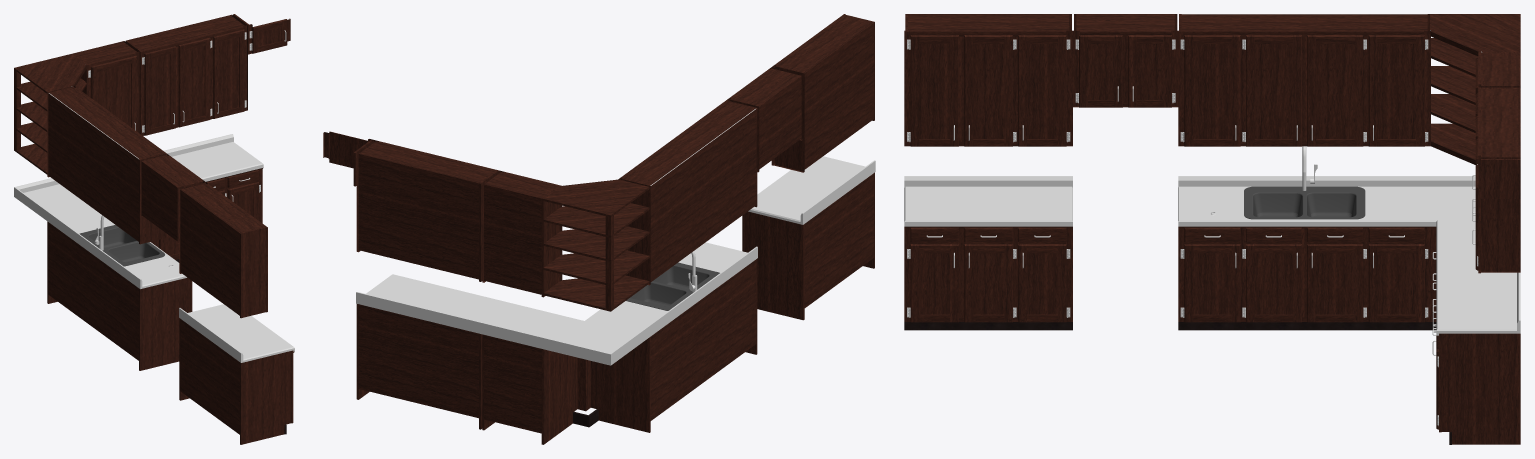
Rendered from Kitchen.fbx.
3 renders of one model, left to right at view 1: azimuth 30°, elevation 25°; view 2: azimuth 150°, elevation 25°; view 3: azimuth 270°, elevation 25°, orthographic. The views are drawn at different scales.
Parts seen in each view (by area): view 1: instance_63.001, instance_80, instance_10, instance_39, instance_43, group_17, instance_82, group_16, group_13, instance_138, instance_132, instance_128 (+26 smaller); view 2: instance_133, instance_63.001, instance_148, instance_80, group_16, instance_10, instance_39, instance_101, group_17, instance_34, instance_110, group_13 (+21 smaller); view 3: group_17, instance_144, group_13, group_16, instance_56, instance_58, instance_52, instance_67, instance_15, instance_9, instance_5, instance_91 (+41 smaller).
Boxes of the visible parts, x1=… form: instance_63.001: x1=48, y1=93, x2=138, y2=241; instance_80: x1=48, y1=222, x2=138, y2=360; instance_10: x1=180, y1=189, x2=239, y2=315; instance_39: x1=180, y1=319, x2=239, y2=434; instance_43: x1=240, y1=351, x2=291, y2=444; group_17: x1=14, y1=187, x2=186, y2=289; instance_82: x1=139, y1=277, x2=190, y2=370; group_16: x1=14, y1=134, x2=263, y2=201; group_13: x1=179, y1=304, x2=294, y2=362; instance_138: x1=178, y1=37, x2=210, y2=127; instance_132: x1=213, y1=29, x2=244, y2=118; instance_128: x1=144, y1=46, x2=175, y2=135; instance_133: x1=358, y1=153, x2=478, y2=279; instance_63.001: x1=650, y1=109, x2=756, y2=281; instance_148: x1=358, y1=304, x2=478, y2=418; instance_80: x1=650, y1=259, x2=756, y2=420; group_16: x1=356, y1=274, x2=610, y2=365; instance_10: x1=804, y1=22, x2=873, y2=169; instance_39: x1=804, y1=173, x2=873, y2=307; instance_101: x1=484, y1=184, x2=541, y2=294; group_17: x1=585, y1=242, x2=757, y2=365; instance_34: x1=744, y1=211, x2=804, y2=320; instance_110: x1=484, y1=335, x2=541, y2=433; group_13: x1=748, y1=156, x2=875, y2=224; group_17: x1=1178, y1=176, x2=1475, y2=226; instance_144: x1=1441, y1=333, x2=1520, y2=444; group_13: x1=904, y1=176, x2=1072, y2=226; group_16: x1=1436, y1=204, x2=1520, y2=335; instance_56: x1=1184, y1=35, x2=1240, y2=146; instance_58: x1=1307, y1=35, x2=1363, y2=146; instance_52: x1=1368, y1=35, x2=1424, y2=146; instance_67: x1=1246, y1=35, x2=1301, y2=146; instance_15: x1=964, y1=35, x2=1012, y2=146; instance_9: x1=1018, y1=35, x2=1066, y2=146; instance_5: x1=910, y1=35, x2=958, y2=146; instance_91: x1=1184, y1=244, x2=1240, y2=322.
Bounding box in the file's own units: 503 × 388 × 757.
9 materials, 2 textured.
